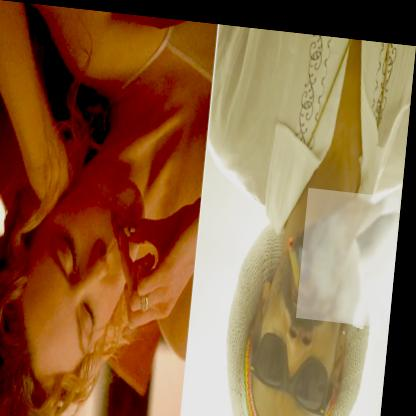smoke: (302, 180, 402, 318)
